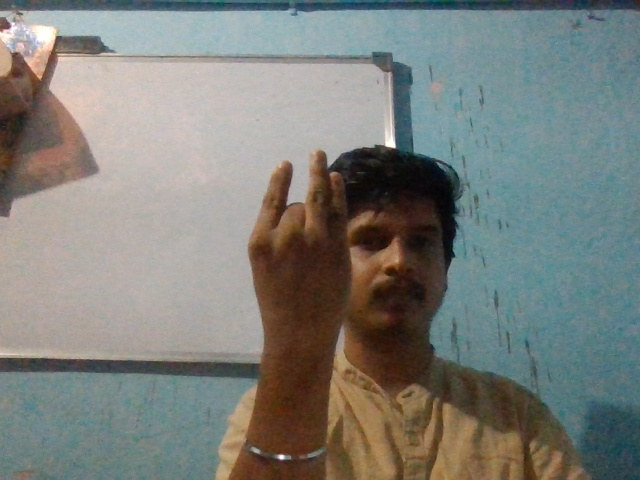Akash: (216, 132, 381, 365)
